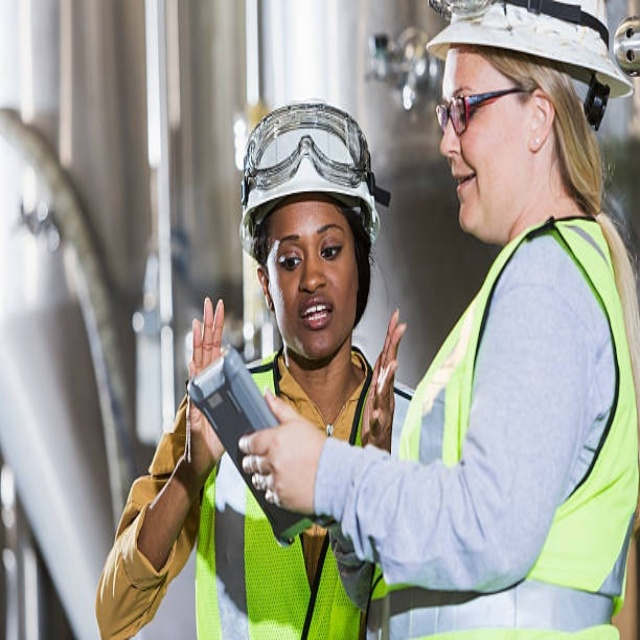Gafas: (437, 83, 527, 135)
Sin_gafas: (268, 218, 347, 276)
Sin_guantes: (234, 385, 327, 519), (173, 295, 229, 478), (360, 302, 406, 449)
Sin_mascara: (288, 289, 340, 348), (449, 157, 489, 229)
